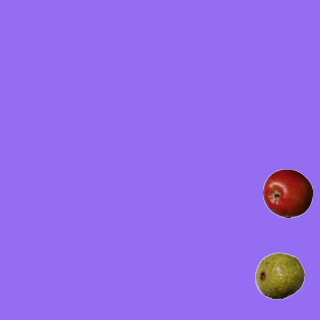Apple Braeburn: (262, 168, 312, 218)
Guava: (254, 250, 304, 300)
